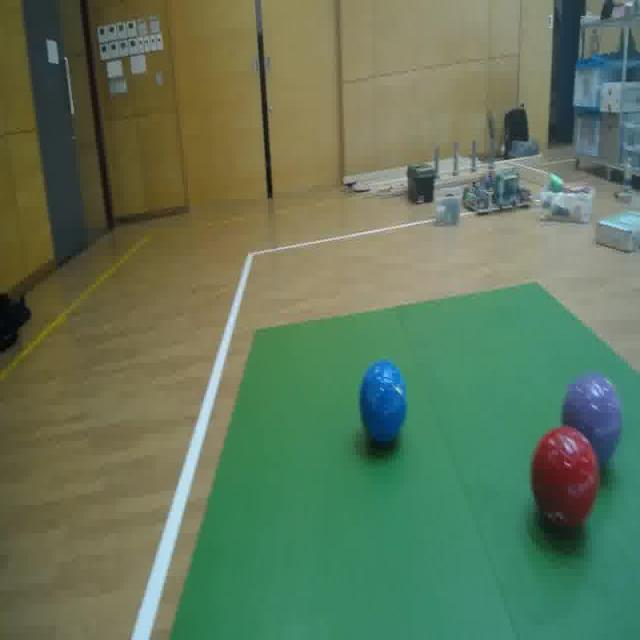blue_ball: (359, 361, 408, 442)
purple_ball: (561, 372, 625, 473)
red_ball: (531, 427, 598, 530)
